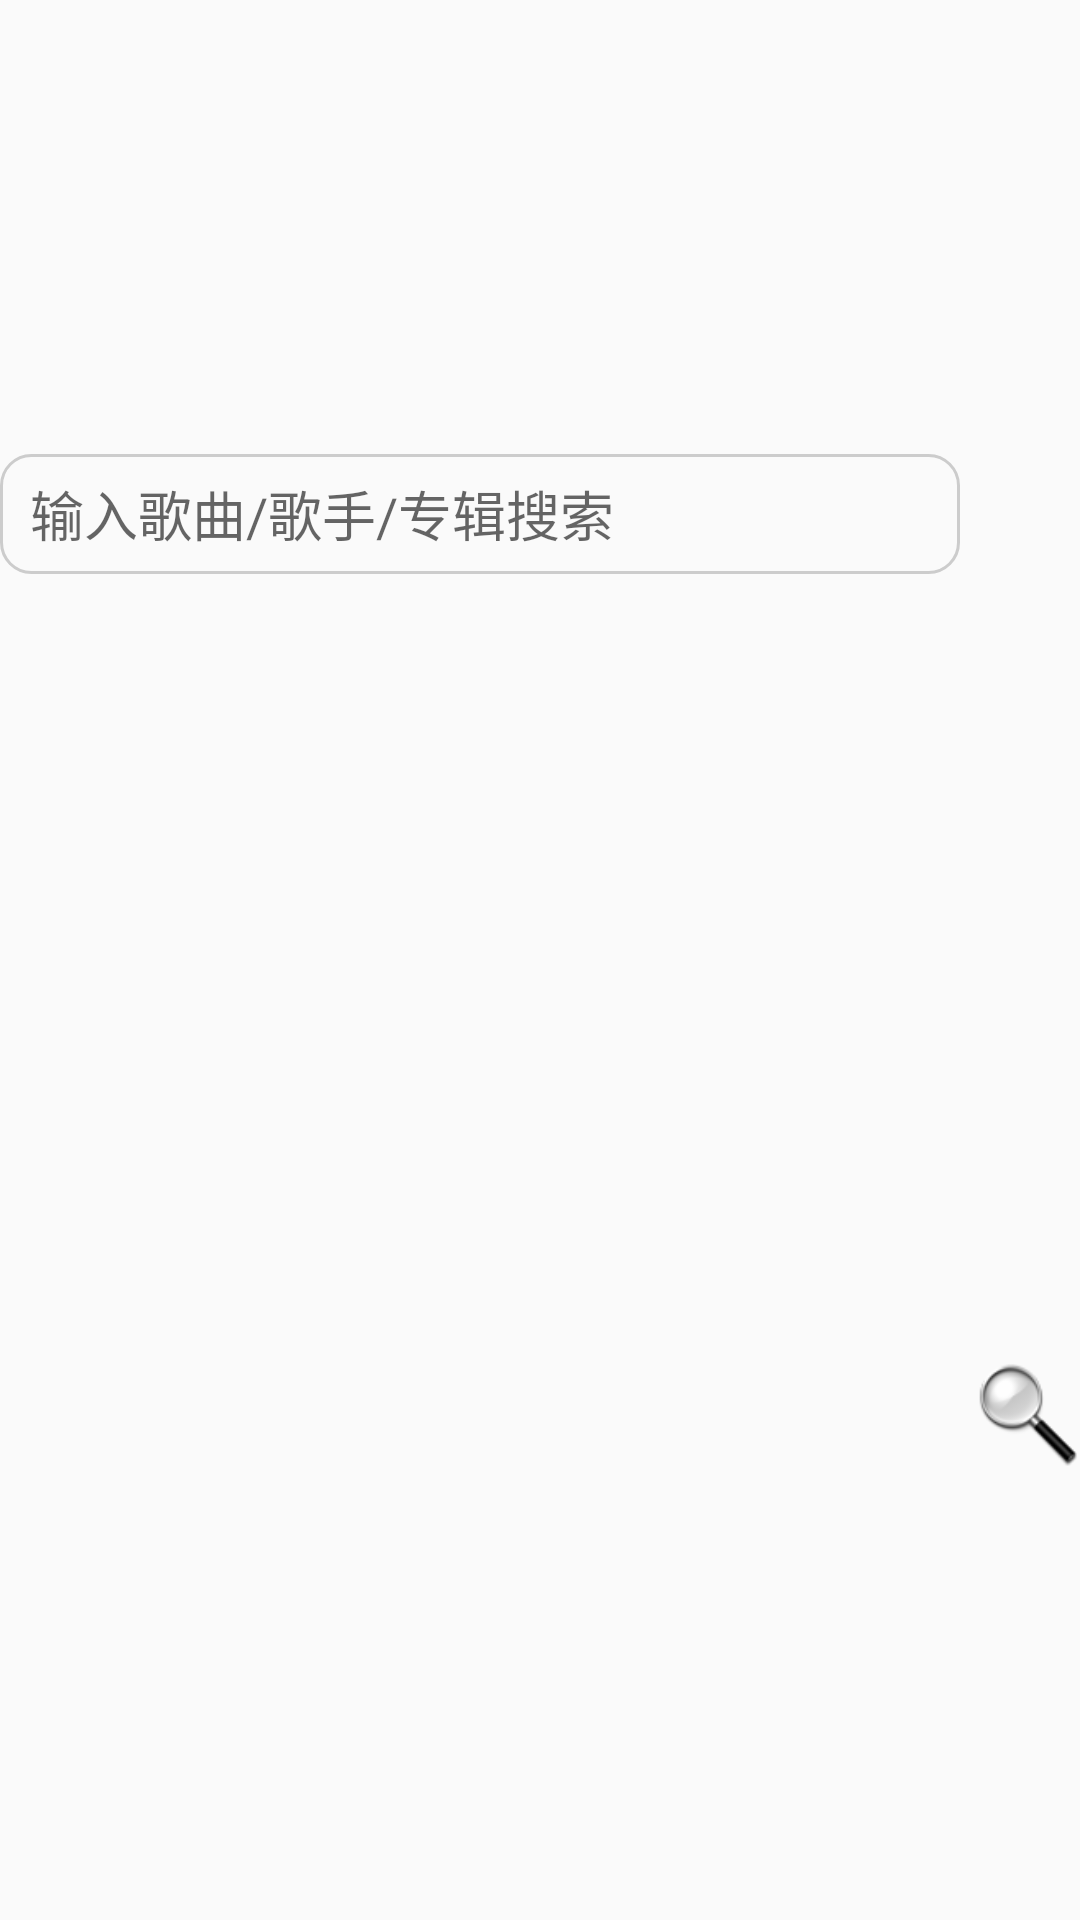

Screen size 1080 × 1920. Icon name, then its box in pixels as (left=x1, top=y1, right=x2, bottom=y2):
search mm: (left=980, top=1365, right=1077, bottom=1465)
